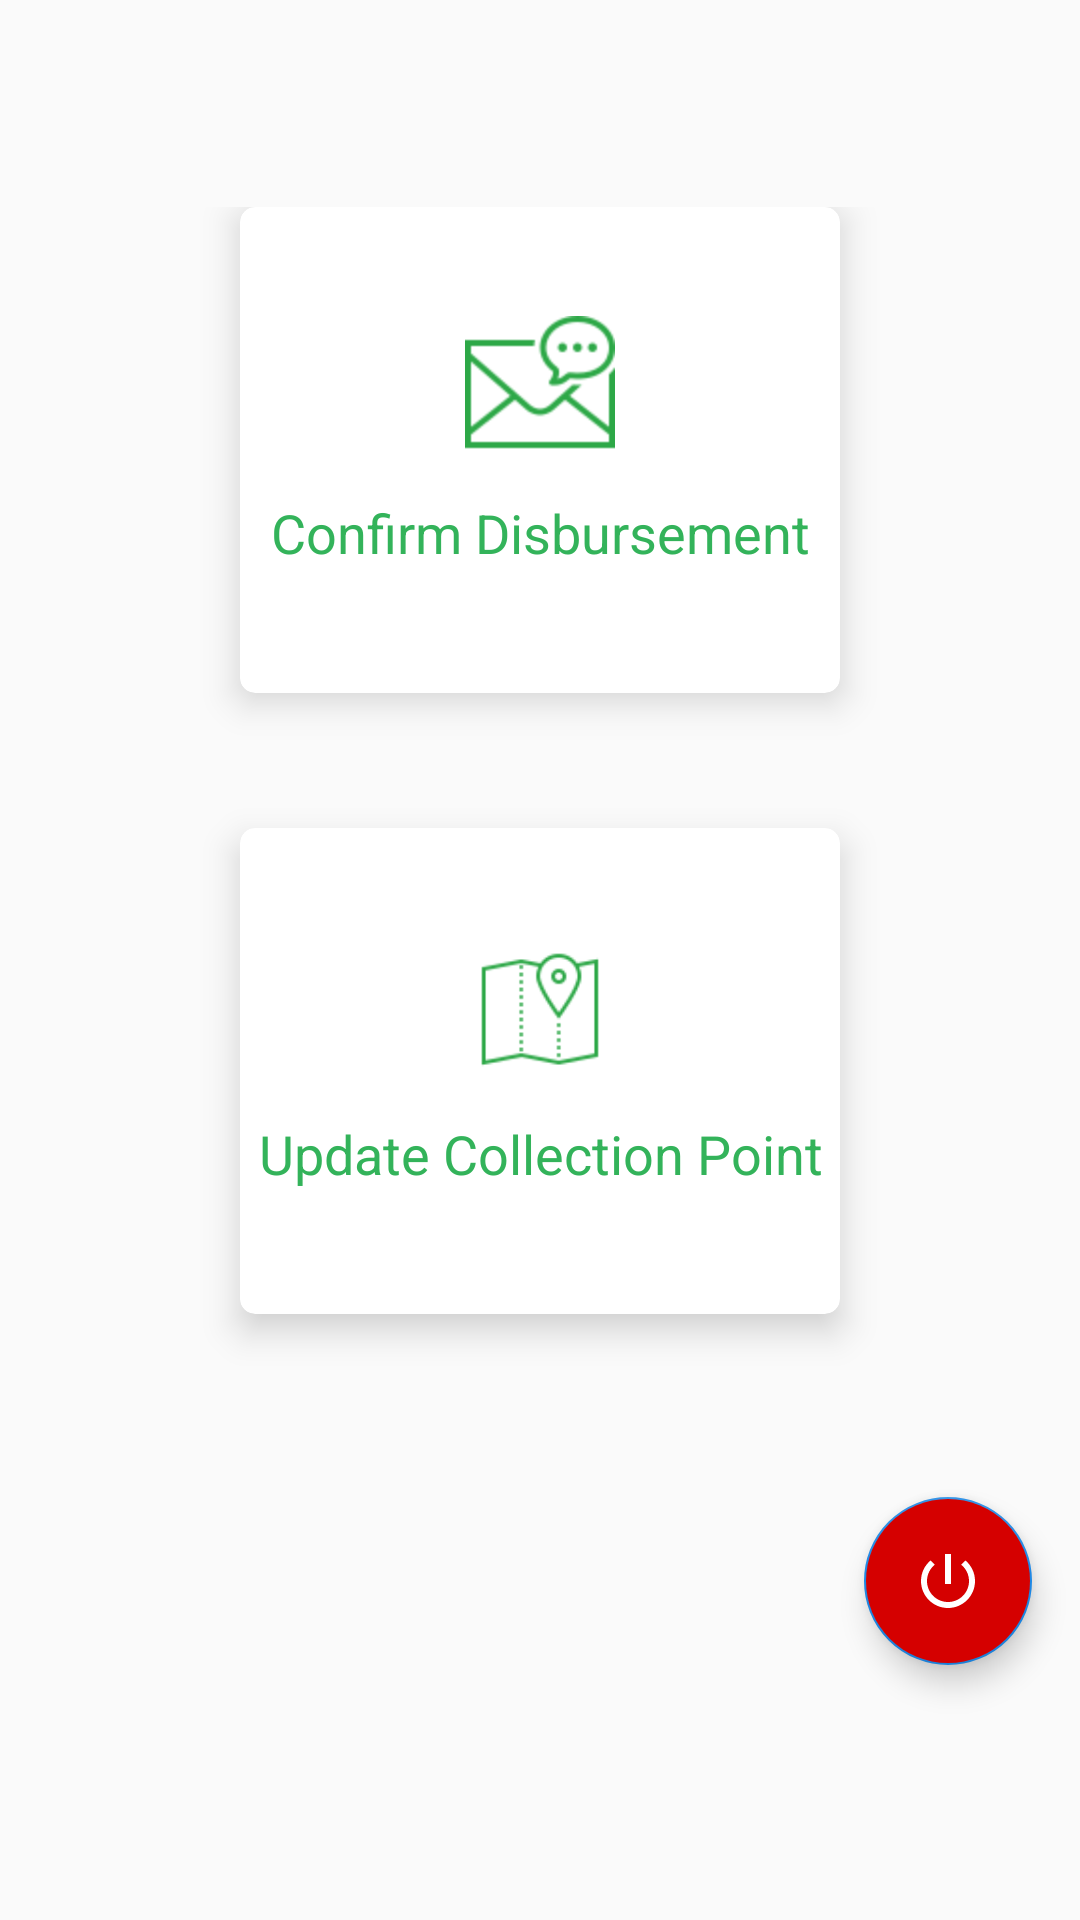

Screen size 1080w x 1920h. Icon name, then its center in pixels as (x,y):
power settings: (948,1581)
